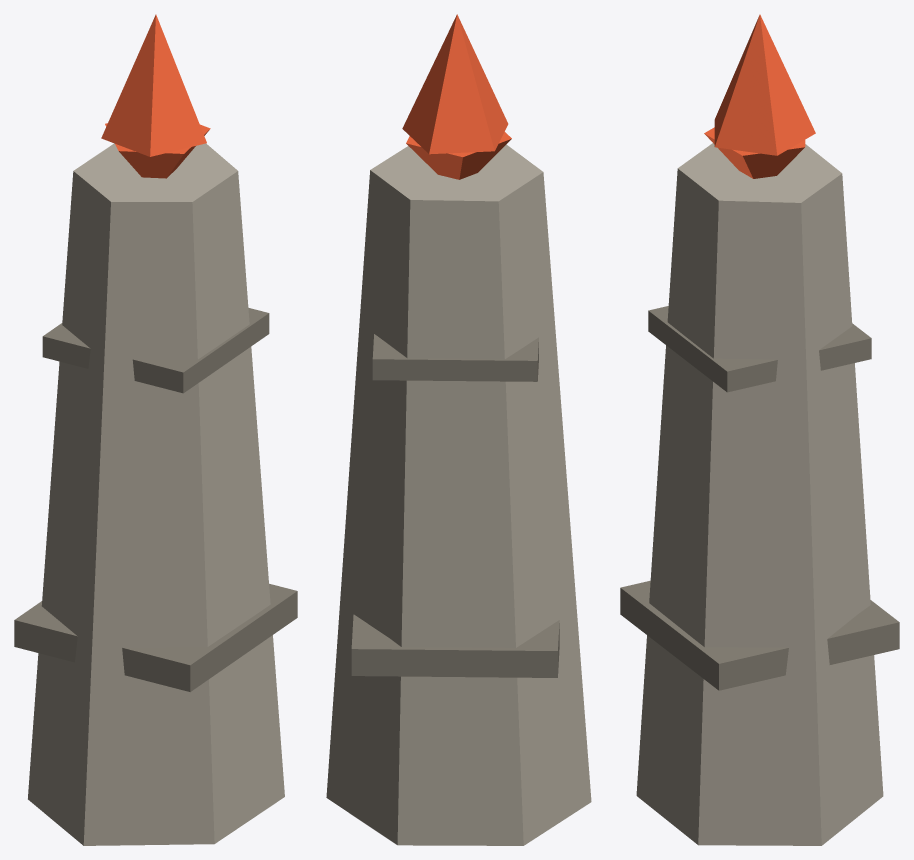
The model's file is shrine_stone_fire.glb.
The picture shows the model from 3 angles, left to right: view 1: azimuth 30°, elevation 25°; view 2: azimuth 150°, elevation 25°; view 3: azimuth 270°, elevation 25°; orthographic projection.
Visible parts, largest first — view 1: Stone; view 2: Stone; view 3: Stone.
Part boxes in pixels (x1,y1,x2,y2): Stone: (14, 14, 297, 845); Stone: (326, 14, 591, 845); Stone: (620, 14, 899, 845).
Size of the model in its own units: 1.7 by 5.25 by 1.7.
